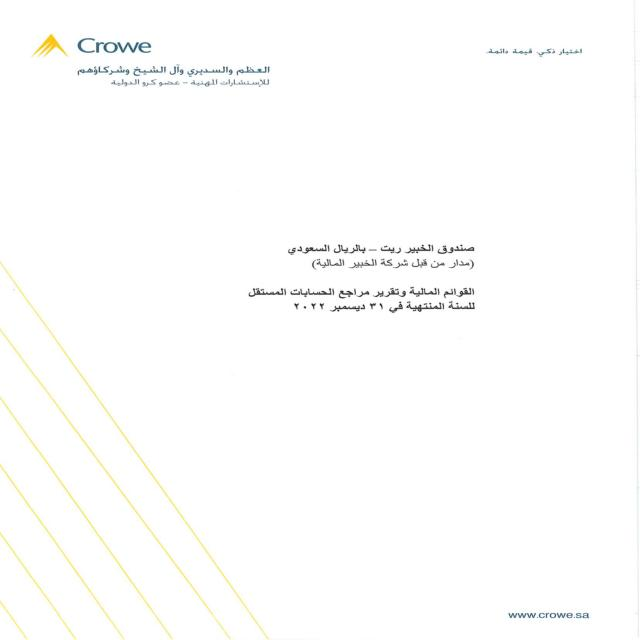other: (178, 202, 524, 369)
